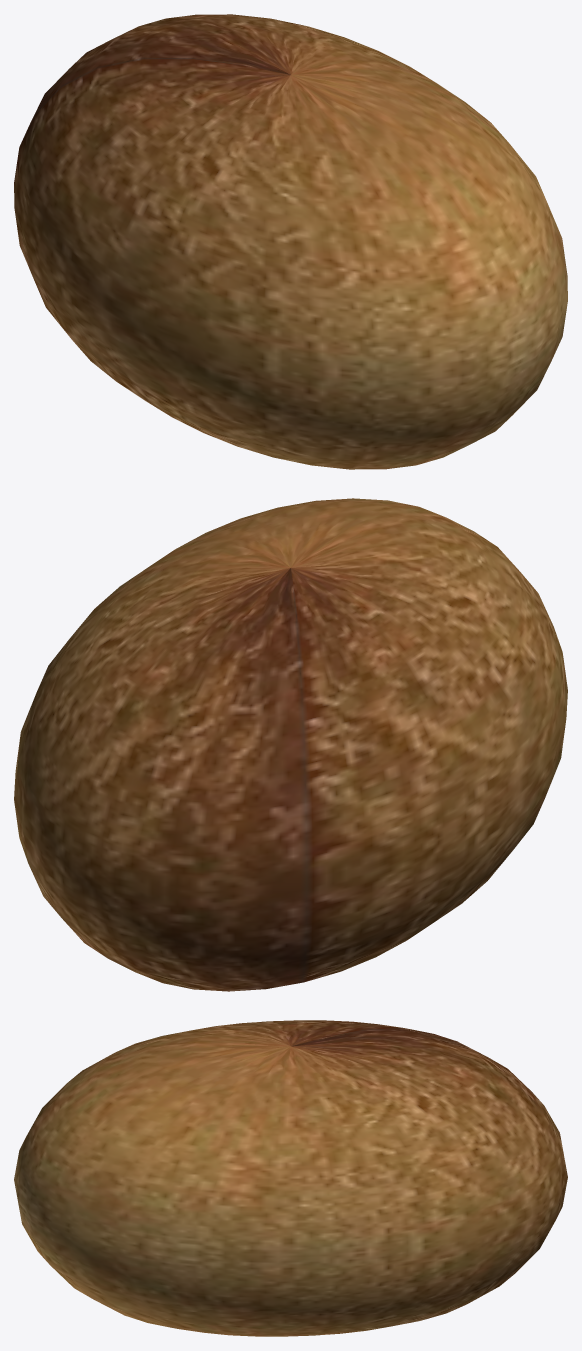
The model's file is kiwi.fbx.
3 renders of one model, top to bottom at view 1: azimuth 30°, elevation 25°; view 2: azimuth 150°, elevation 25°; view 3: azimuth 270°, elevation 25°, orthographic. The views are drawn at different scales.
Visible parts, largest first — view 1: Kiwi; view 2: Kiwi; view 3: Kiwi.
Part boxes in pixels (x1=…): Kiwi: x1=14, y1=14, x2=567, y2=469; Kiwi: x1=14, y1=498, x2=567, y2=991; Kiwi: x1=14, y1=1020, x2=567, y2=1336.
Bounding box in the file's own units: 165 × 128 × 243.
